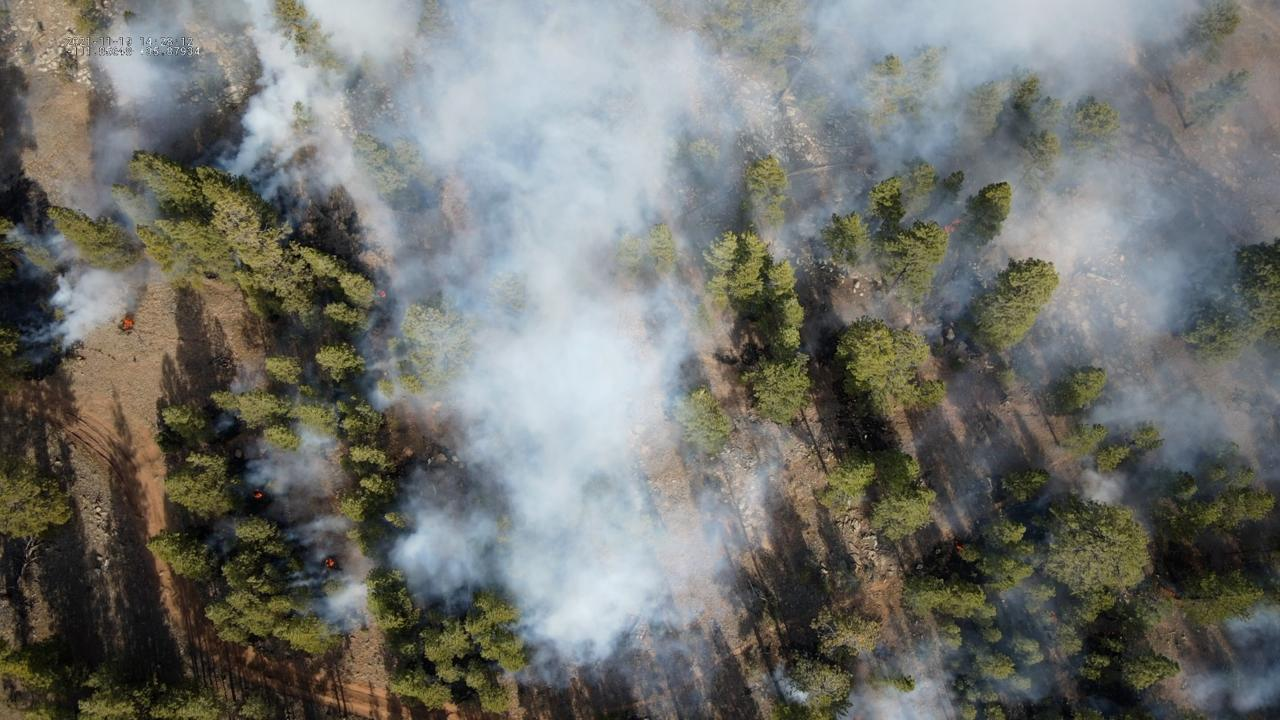fire: (941, 218, 962, 234), (120, 316, 135, 332), (322, 557, 335, 569), (252, 490, 264, 500), (378, 289, 387, 299)
smoke: (1, 0, 1280, 720)
